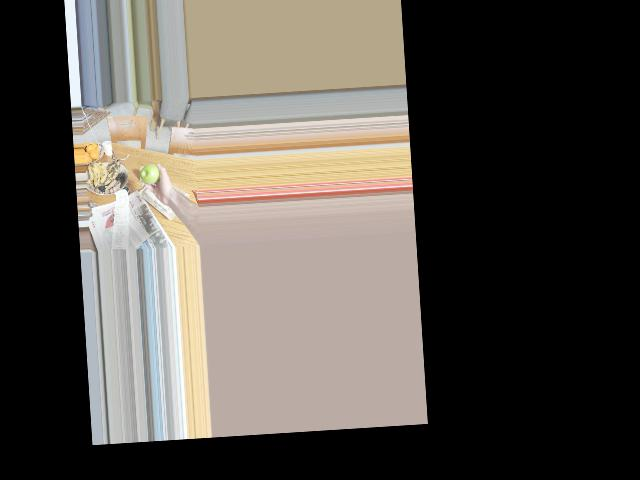apple: (138, 162, 162, 187)
